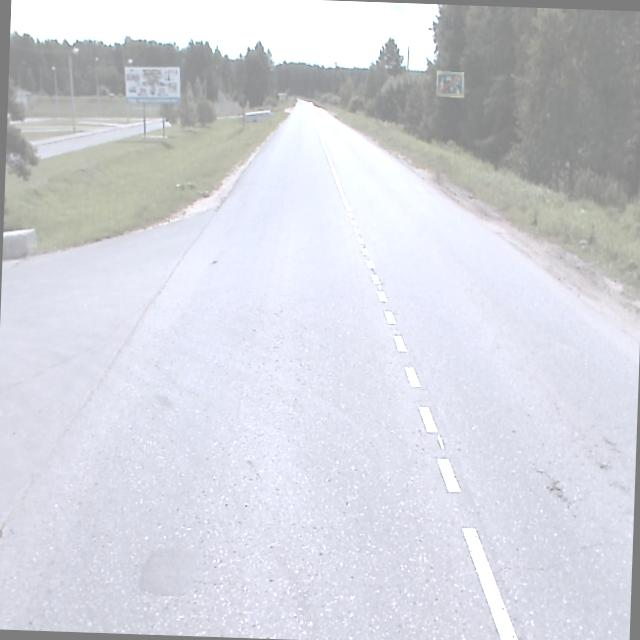road: (0, 99, 639, 640)
